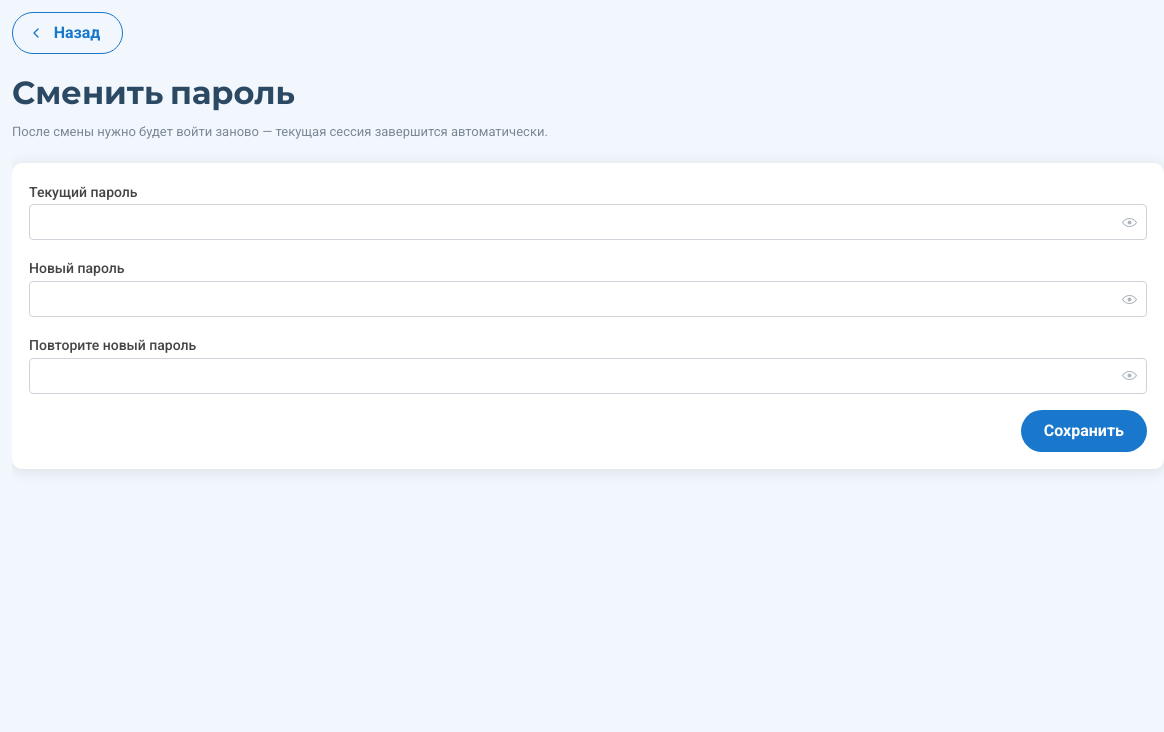
Test: ChangePasswordPage › shows friendly error text on ApiError
Type "WrongOld1!" into the password field labelled "Текущий пароль" at (588, 222), box x1=30 y1=205 x2=1146 y2=239
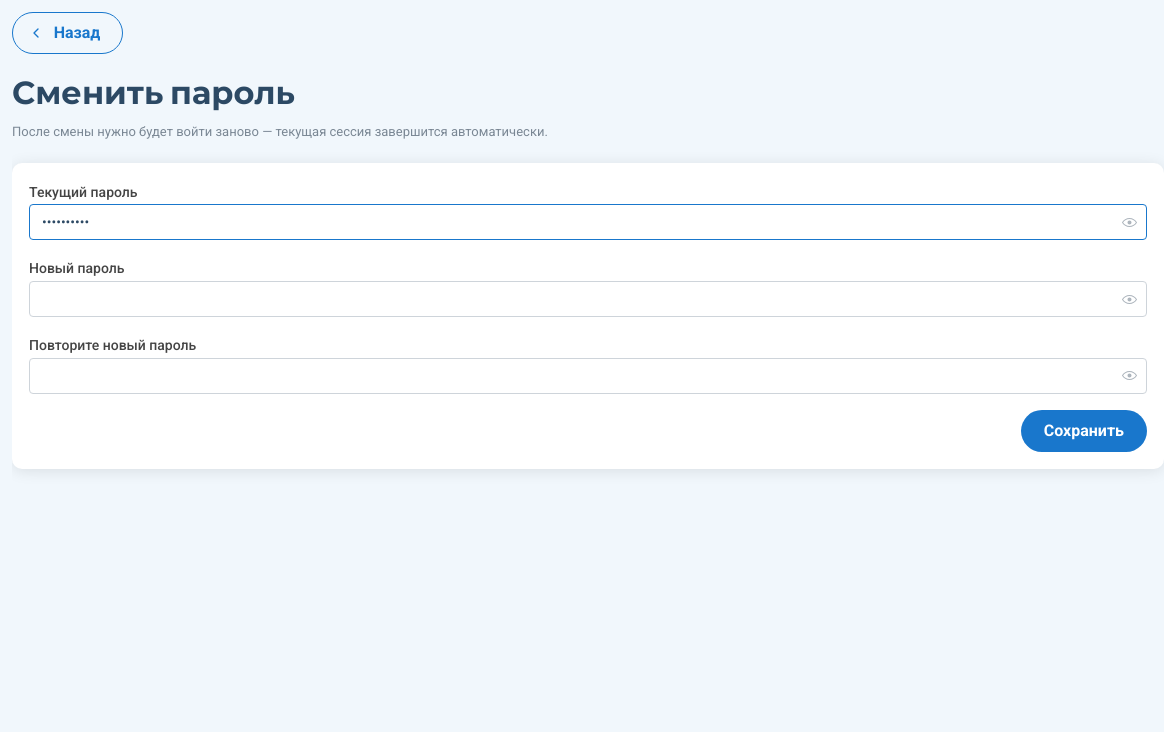
Type "NewPassword1!" into the password field labelled "Новый пароль" at (588, 299), box x1=30 y1=282 x2=1146 y2=316
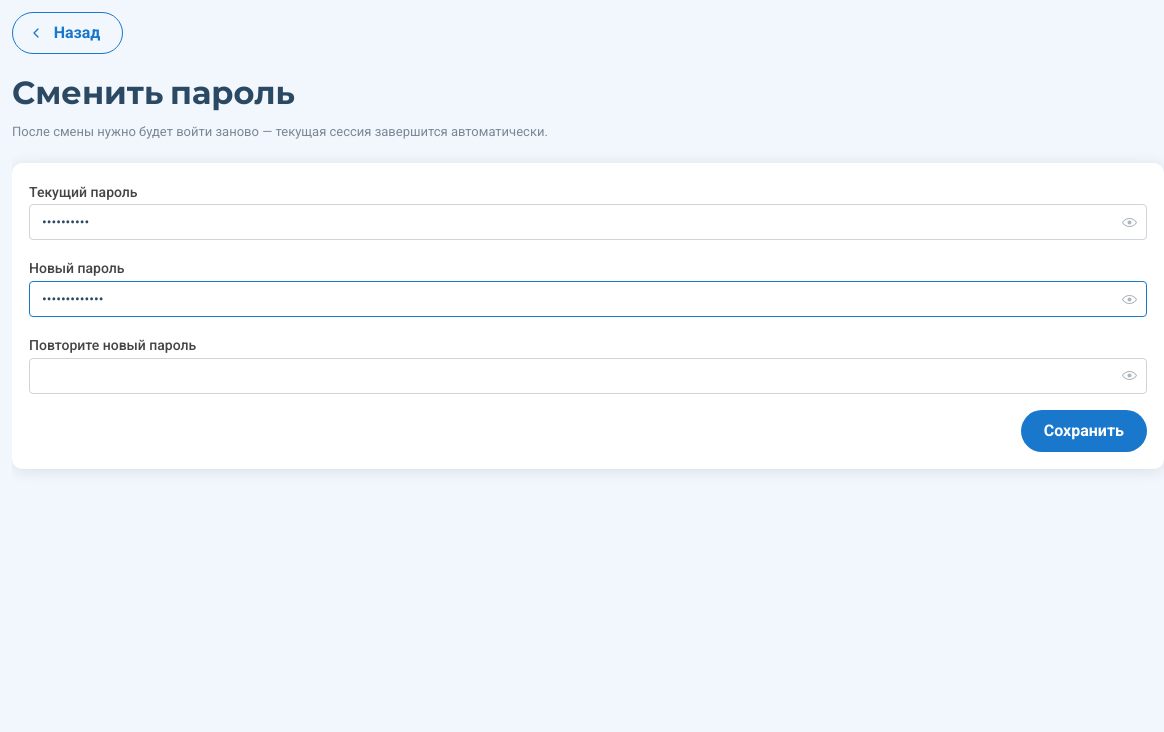
Type "NewPassword1!" into the password field labelled "Повторите новый пароль" at (588, 376), box x1=30 y1=359 x2=1146 y2=393
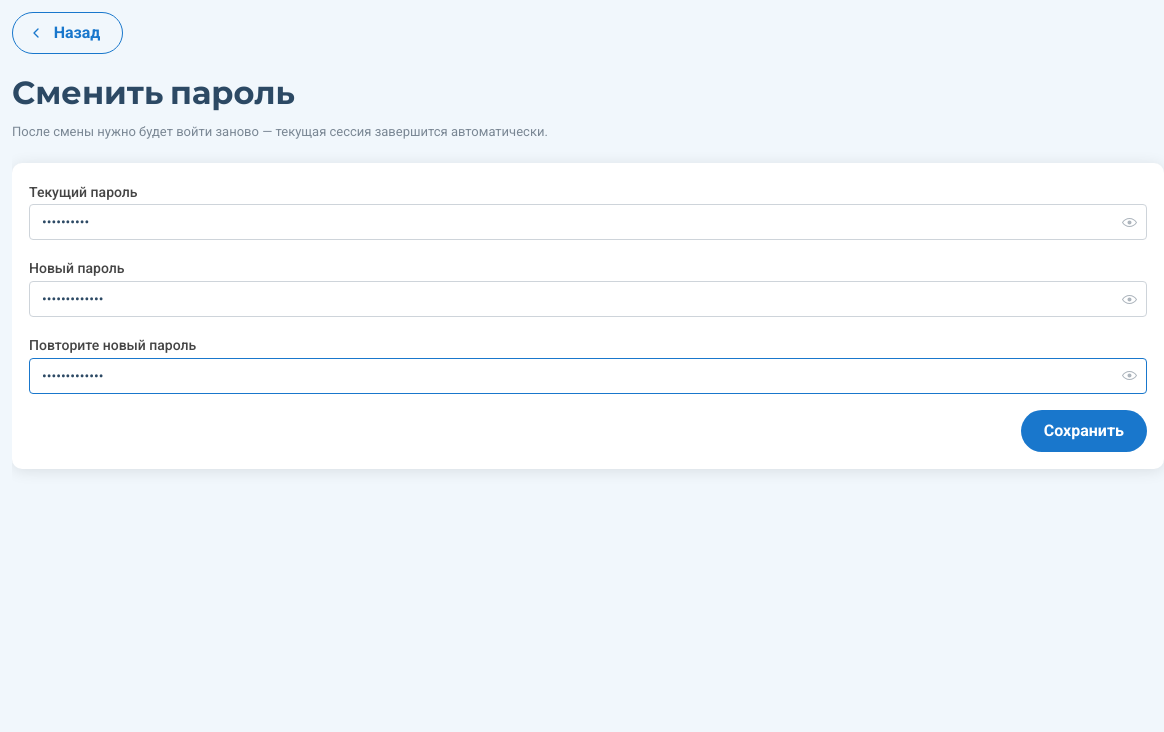
Click the button "Сохранить" at (1084, 431), box x1=1021 y1=410 x2=1147 y2=452
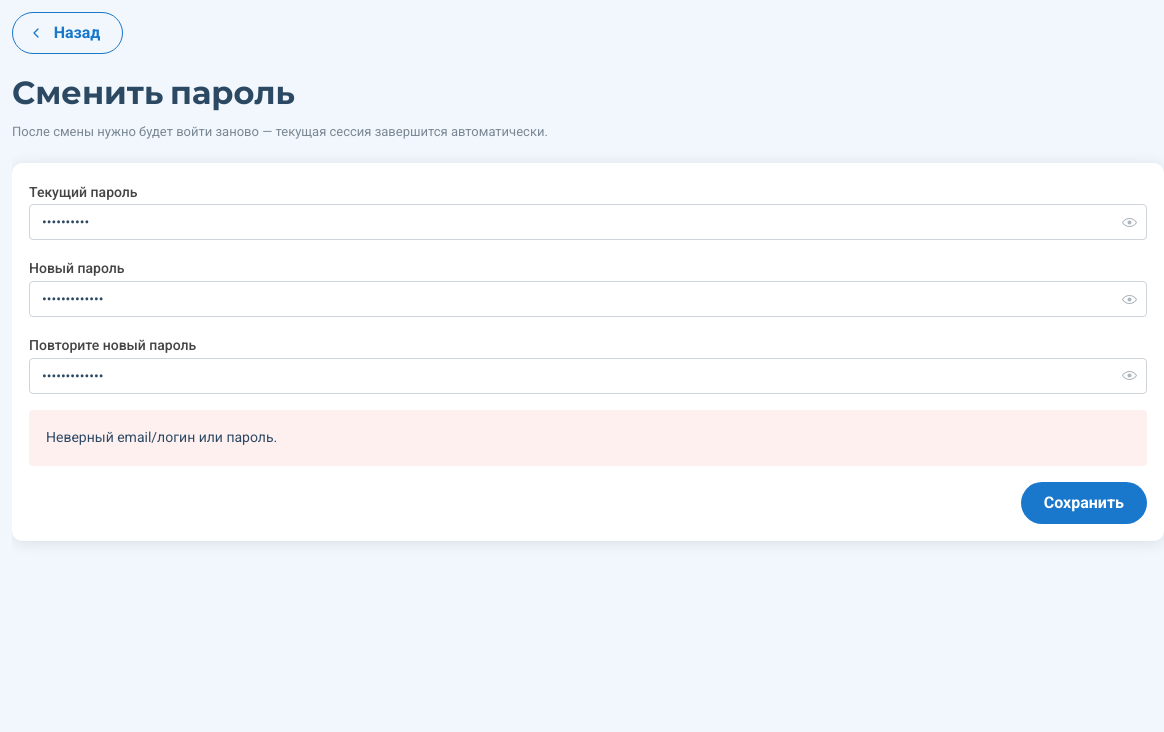
Expected: the text "Неверный email/логин или пароль." is shown, x1=46 y1=429 x2=277 y2=445
